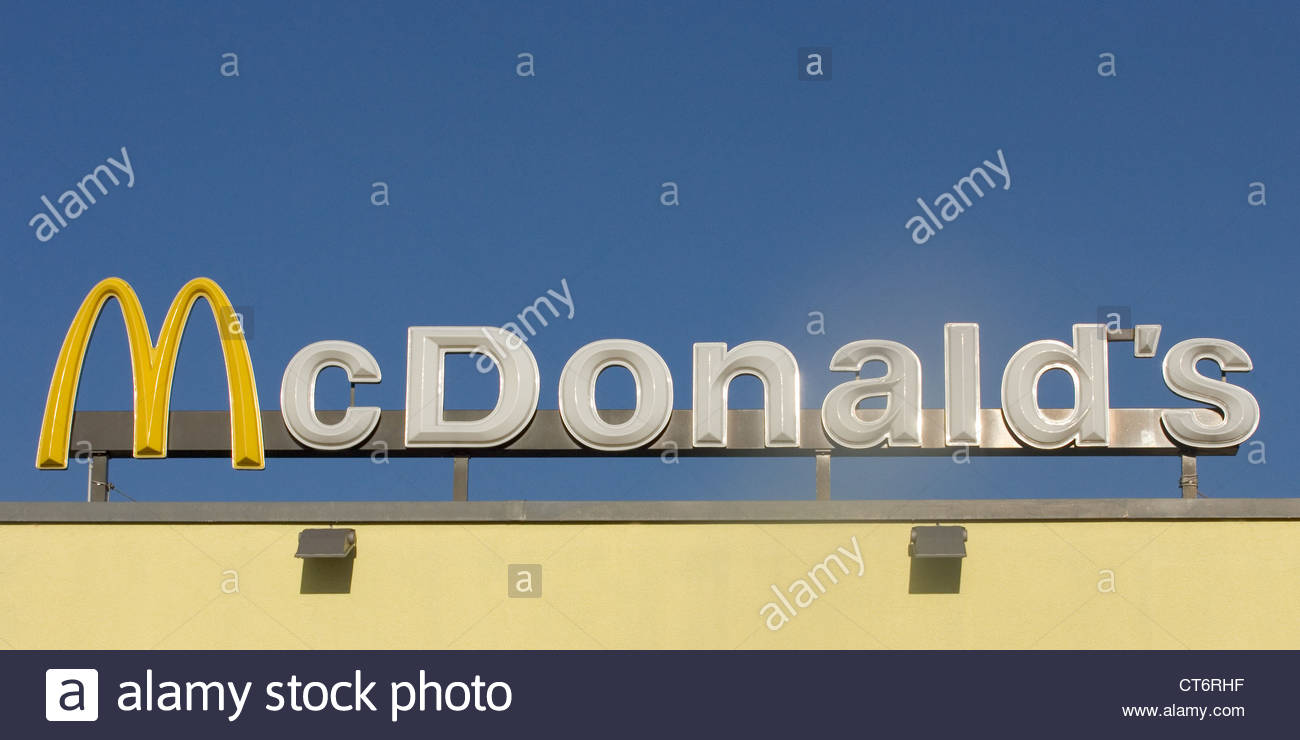mcdonalds: (36, 274, 266, 468)
